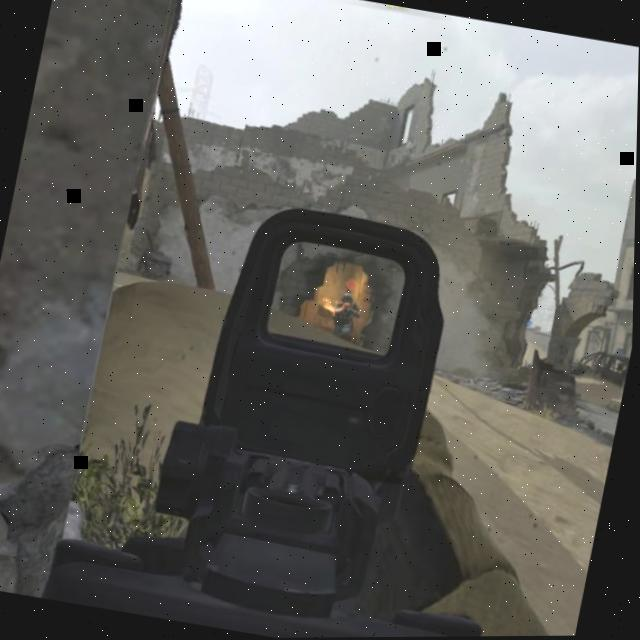MW2_body: (330, 276, 368, 342)
